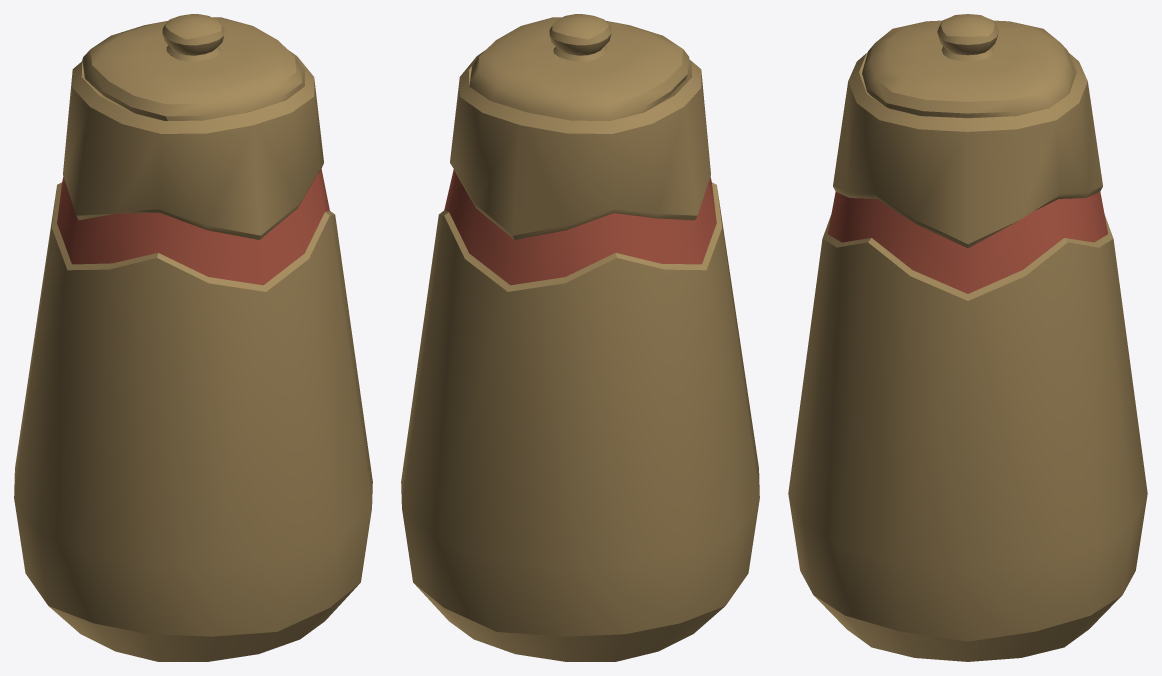
The model's file is Pot3.gltf.
The picture shows the model from 3 angles, left to right: view 1: azimuth 30°, elevation 25°; view 2: azimuth 150°, elevation 25°; view 3: azimuth 270°, elevation 25°; orthographic projection.
Parts seen in each view (by area): view 1: Pot3; view 2: Pot3; view 3: Pot3.
Boxes of the visible parts, x1,y1,x2,y2 form: Pot3: (14,14,372,661); Pot3: (401,14,759,661); Pot3: (788,14,1147,661).
Size of the model in its own units: 0.4633 by 0.8353 by 0.4633.
